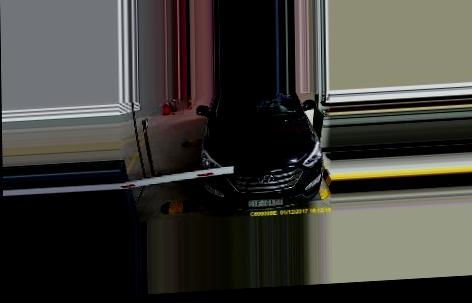License_Plate: (246, 194, 283, 210)
